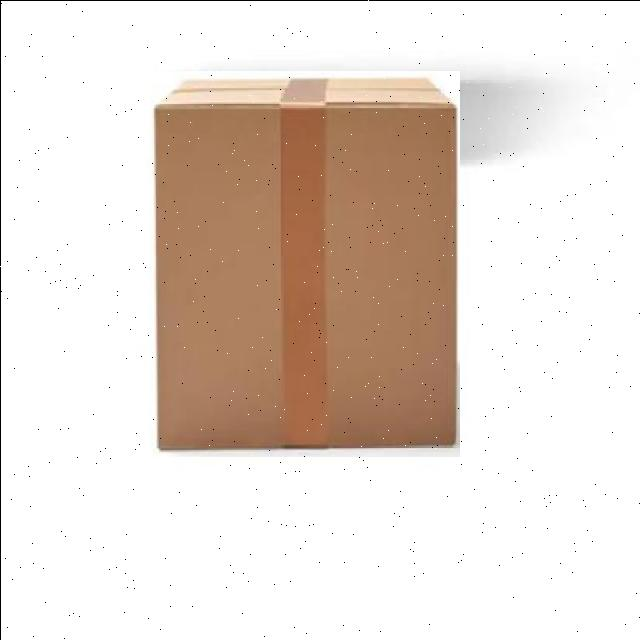normal: (144, 70, 458, 456)
